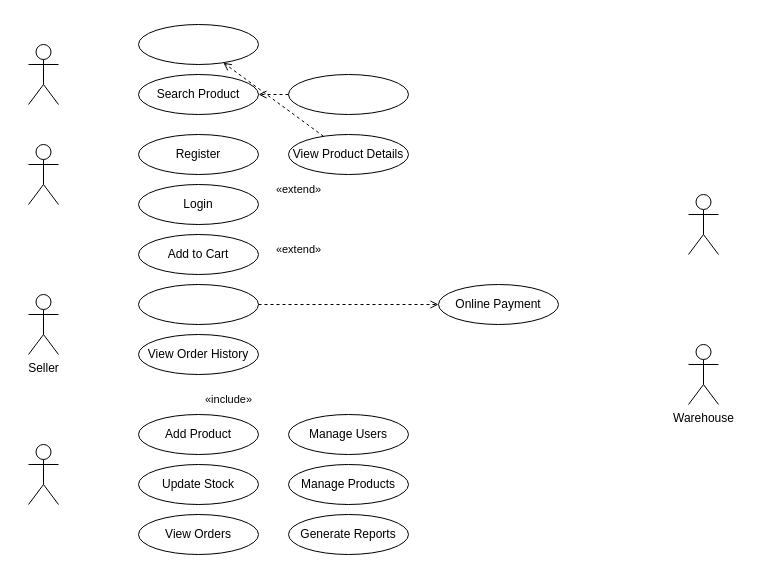
Some shapes in this 769 by 572 pixel diagram are drawn without their labels. Each missing label, with the centre of its shape:
Admin: point (43, 474)
Customer: point (43, 174)
Filter Products: point (348, 94)
Guest: point (43, 74)
Payment Gateway: point (703, 224)
Place Order: point (198, 304)
View Products: point (198, 44)
